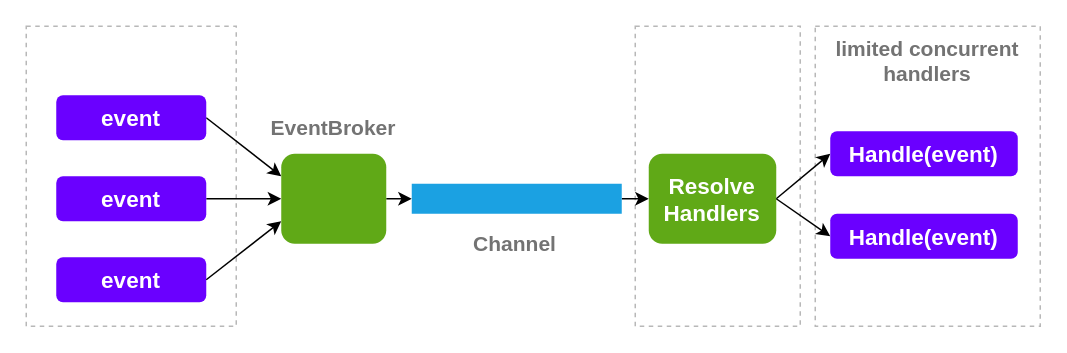
Image size: 1067x353. Some labels were removed from this diagram. The shapes that lost their labels are listed below. From the top down, each one's box as (x1, y1, x2, y2) in pixels, then its label:
(25, 25, 236, 326): unlimited producers
(634, 25, 800, 326): single consumer
(280, 153, 386, 243): Publish
(411, 183, 621, 213): events
